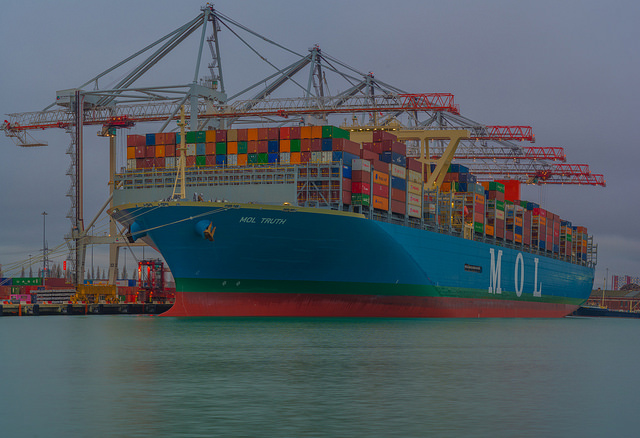container_ship: (105, 110, 596, 316)
